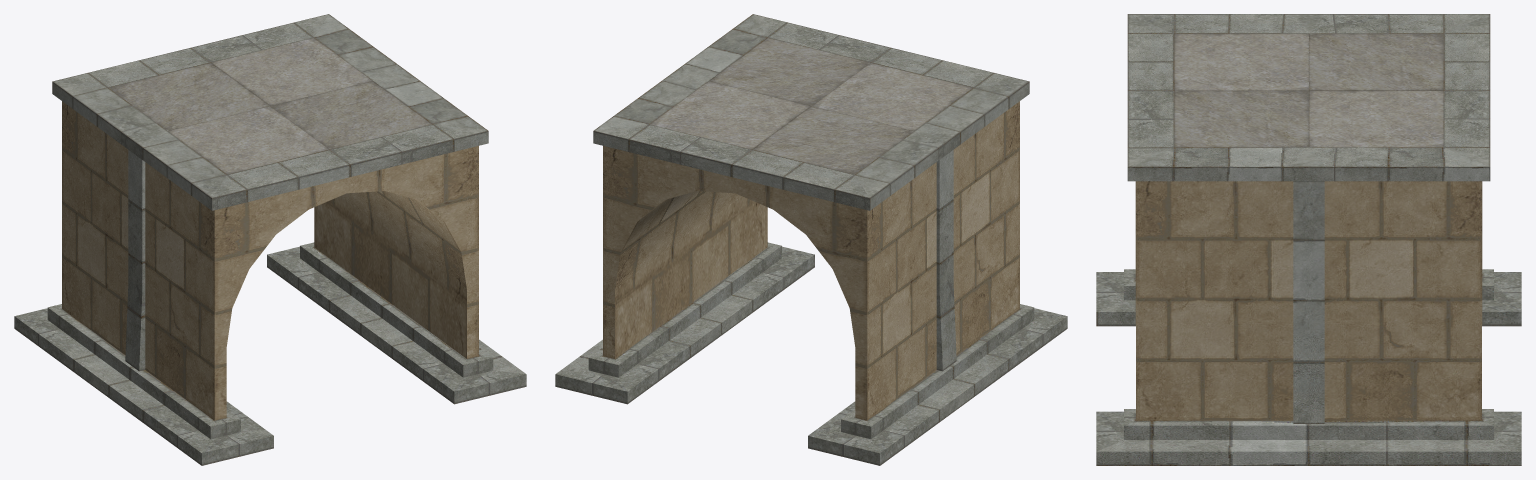
Rendered from block_arch_4x4.fbx.
3 renders of one model, left to right at view 1: azimuth 30°, elevation 25°; view 2: azimuth 150°, elevation 25°; view 3: azimuth 270°, elevation 25°, orthographic. The views are drawn at different scales.
Visible parts, largest first — view 1: block_arch_4x4; view 2: block_arch_4x4; view 3: block_arch_4x4.
Boxes of the visible parts, x1=… form: block_arch_4x4: x1=14, y1=14, x2=526, y2=465; block_arch_4x4: x1=555, y1=14, x2=1067, y2=465; block_arch_4x4: x1=1096, y1=14, x2=1521, y2=465.
Bounding box in the file's own units: 270 × 200 × 270.
